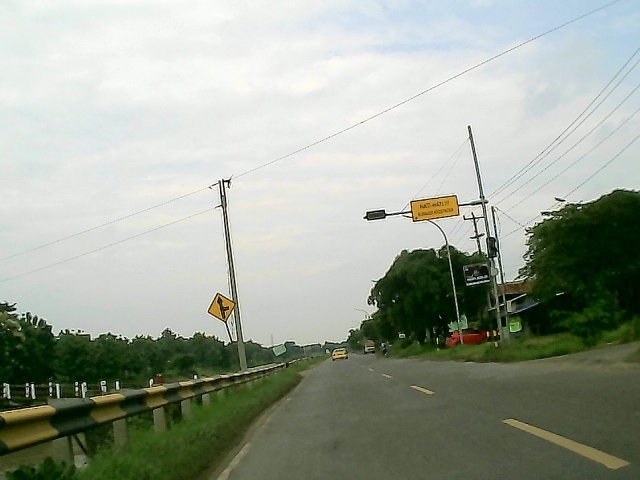Simpang kanan dengan prioritas: (206, 293, 239, 324)
